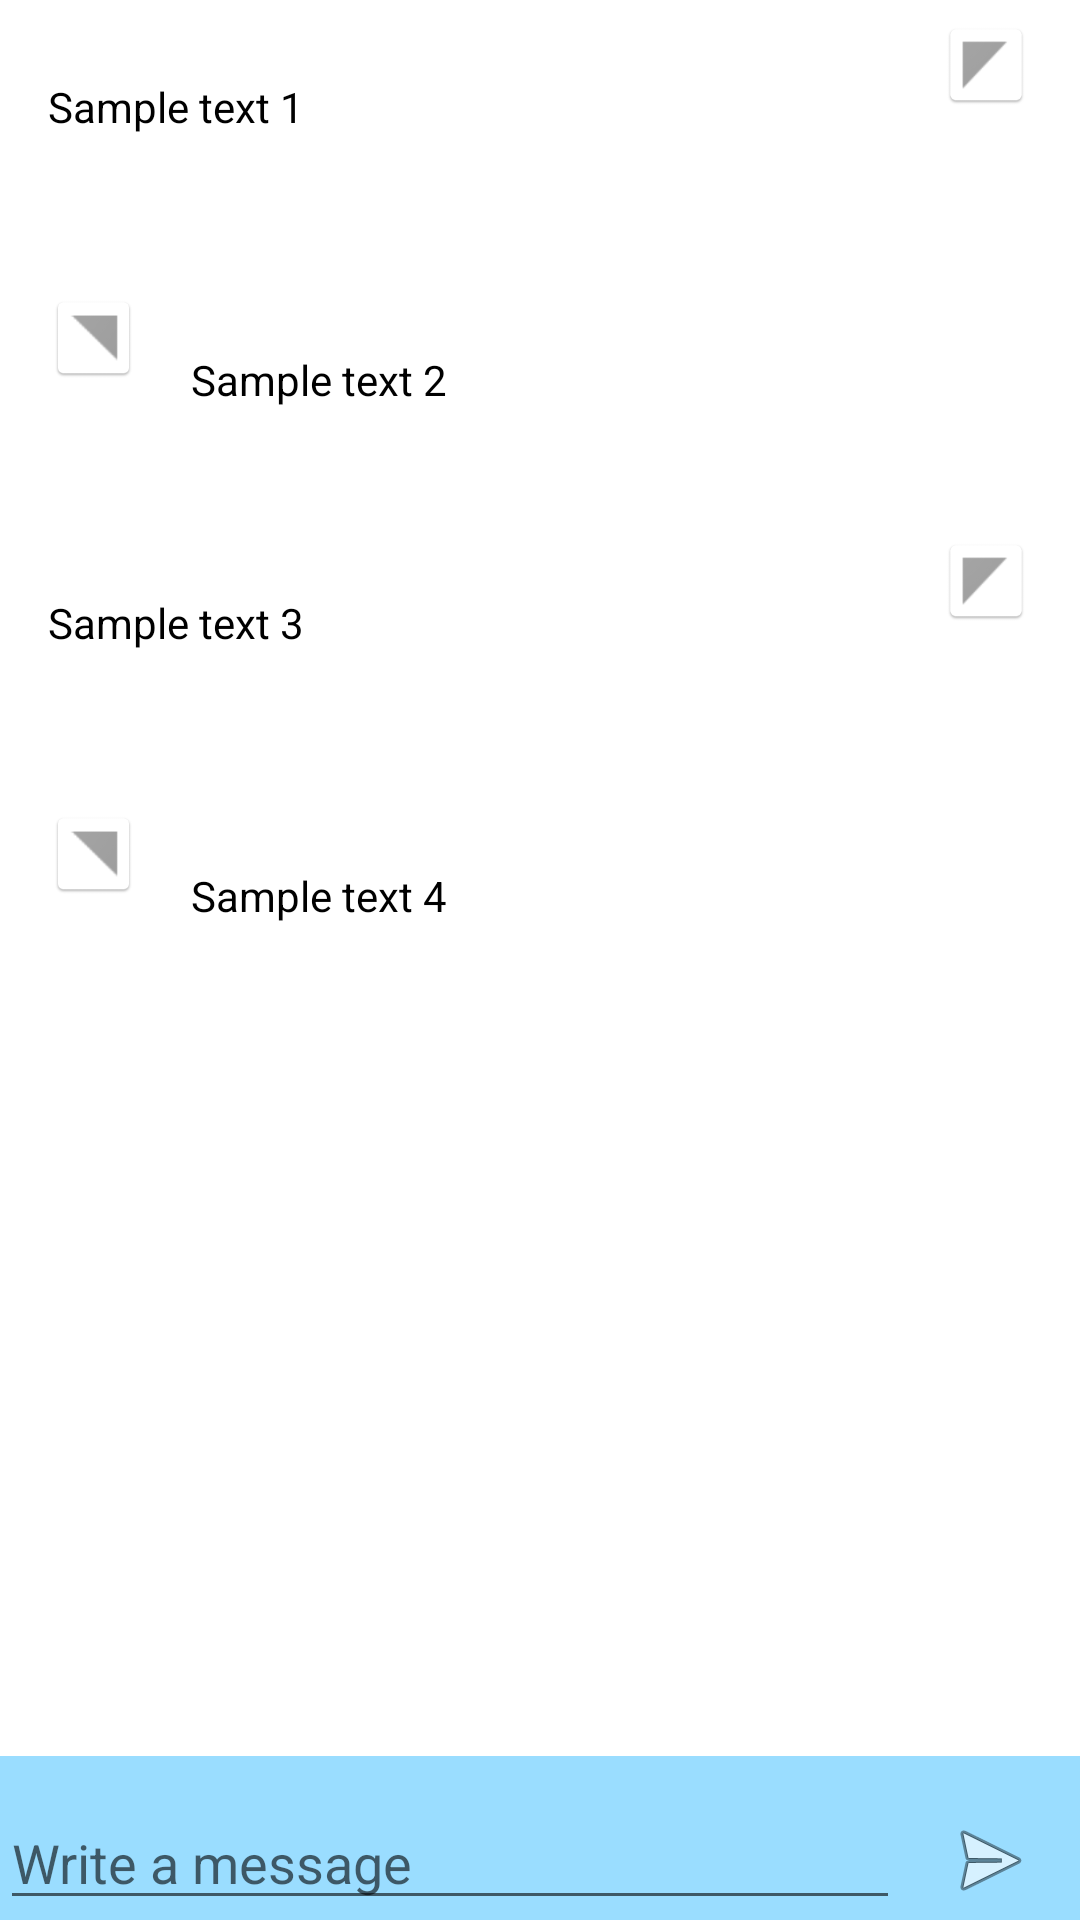

Locate icon controls on the screen. Image size 1080px×1920px, boxes as (x1, y1, x2, y2).
send: (960, 1830, 1022, 1891)
